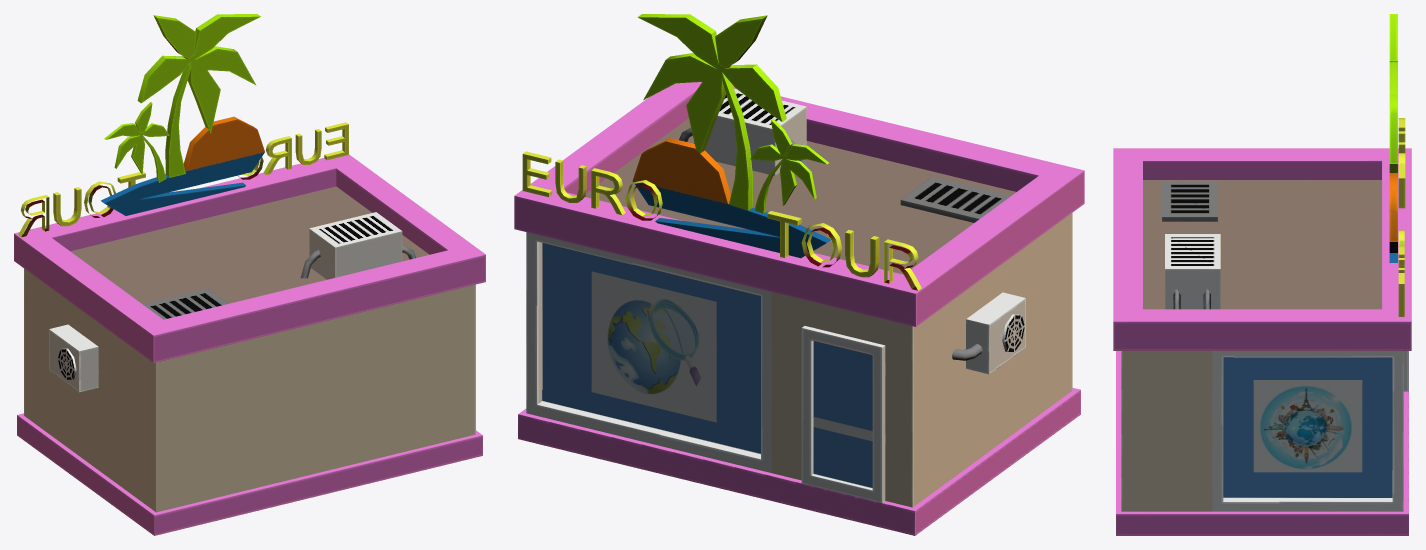
Rendered from Tour Agency.glb.
3 renders of one model, left to right at view 1: azimuth 30°, elevation 25°; view 2: azimuth 150°, elevation 25°; view 3: azimuth 270°, elevation 25°, orthographic. The views are drawn at different scales.
Parts seen in each view (by area): view 1: Object006; view 2: Object006; view 3: Object006.
Boxes of the visible parts, bbox=[...] form: Object006: bbox=[14, 14, 485, 535]; Object006: bbox=[514, 14, 1084, 535]; Object006: bbox=[1113, 14, 1411, 535].
Size of the model in its own units: 2.67 by 2.88 by 1.86.
Materials: 1 (1 with a texture image).
